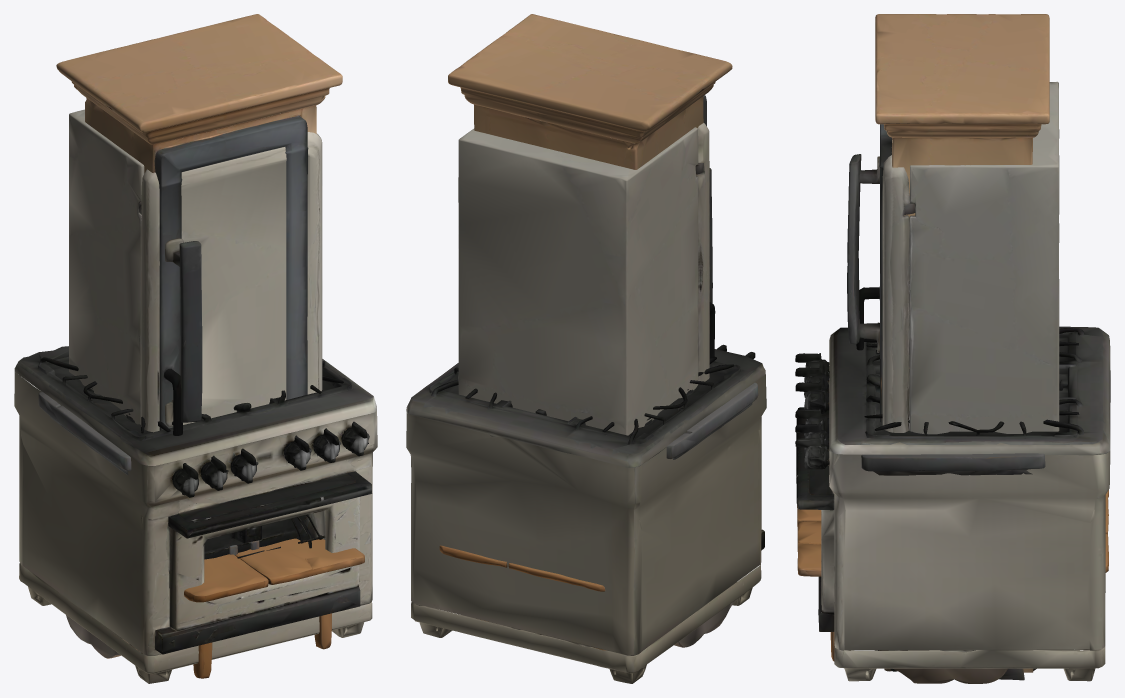
Rendered from cuisine.glb.
The picture shows the model from 3 angles, left to right: view 1: azimuth 30°, elevation 25°; view 2: azimuth 150°, elevation 25°; view 3: azimuth 270°, elevation 25°; orthographic projection. The views are drawn at different scales.
Visible parts, largest first — view 1: porte (×3), gaziniere, garde-manger, frigo, table-basse, evier, bouton-3, bouton-1, bouton-5, bouton-0, bouton-4, bouton-2; view 2: gaziniere, frigo, garde-manger, porte, evier, table-basse; view 3: gaziniere, frigo, garde-manger, porte (×3), evier, table-basse, bouton-5, bouton-2, bouton-3, bouton-1.
Part boxes in pixels (<box>): porte (×3): <box>138,115,372,630</box>; gaziniere: <box>14,346,377,683</box>; garde-manger: <box>56,14,342,173</box>; frigo: <box>69,109,280,424</box>; table-basse: <box>184,538,364,678</box>; evier: <box>38,391,341,658</box>; bouton-3: <box>283,435,311,470</box>; bouton-1: <box>200,455,228,490</box>; bouton-5: <box>341,421,369,456</box>; bouton-0: <box>172,463,198,497</box>; bouton-4: <box>313,428,340,462</box>; bouton-2: <box>230,448,258,483</box>; gaziniere: <box>406,349,766,683</box>; frigo: <box>458,127,698,435</box>; garde-manger: <box>448,14,732,175</box>; porte: <box>695,123,712,381</box>; evier: <box>648,382,758,647</box>; table-basse: <box>439,545,605,650</box>; gaziniere: <box>818,326,1110,681</box>; frigo: <box>875,81,1059,650</box>; garde-manger: <box>875,14,1049,671</box>; porte (×3): <box>796,124,914,614</box>; evier: <box>861,453,1045,683</box>; table-basse: <box>797,490,1108,661</box>; bouton-5: <box>795,438,829,469</box>; bouton-2: <box>795,381,829,413</box>; bouton-3: <box>795,409,829,437</box>; bouton-1: <box>795,367,829,397</box>.
Size of the model in its own units: 0.9466 by 2 by 1.01.
32 materials, 32 textured.
